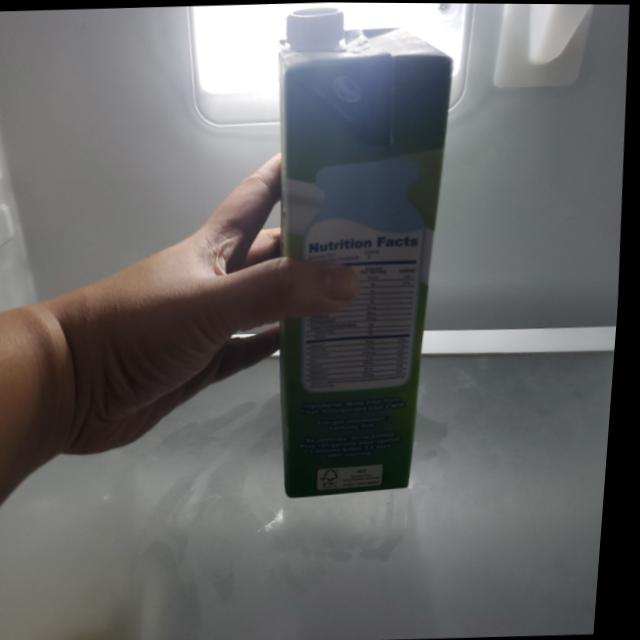milk: (249, 4, 473, 503)
